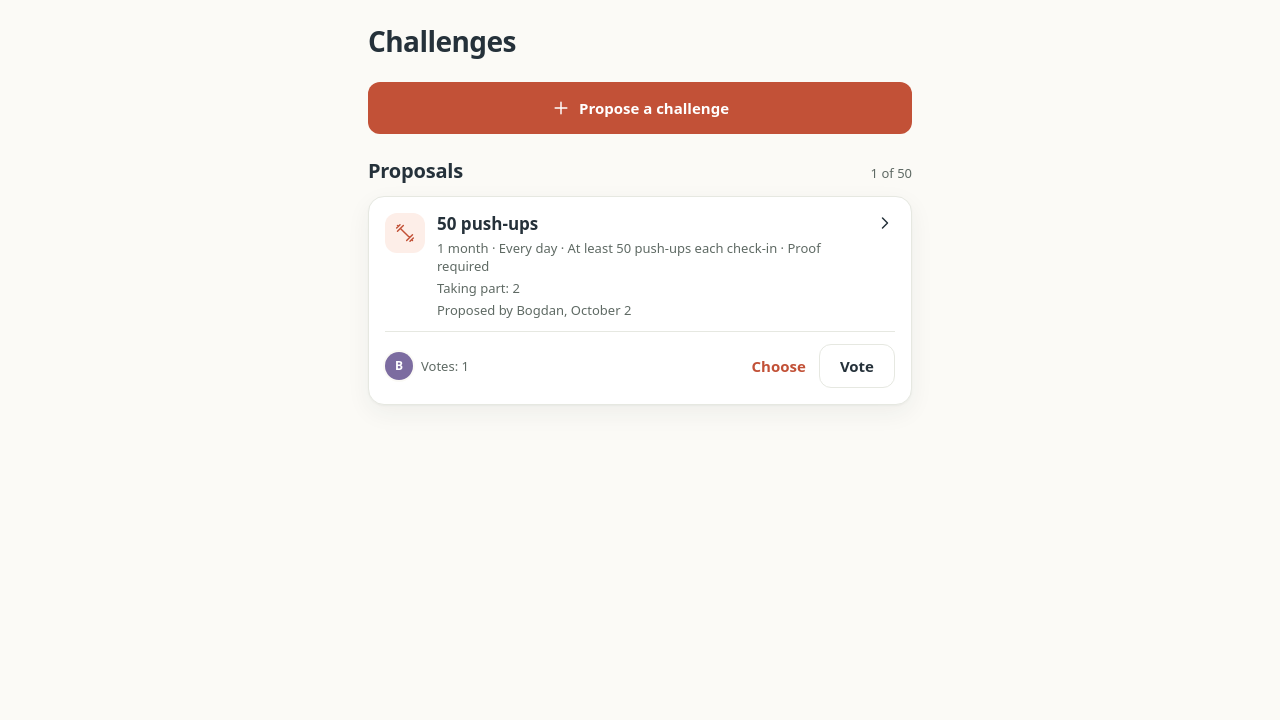
challenges list › lets an admin choose the month for a proposal
Click the button "Choose" at (779, 366), box [743,344,815,388]
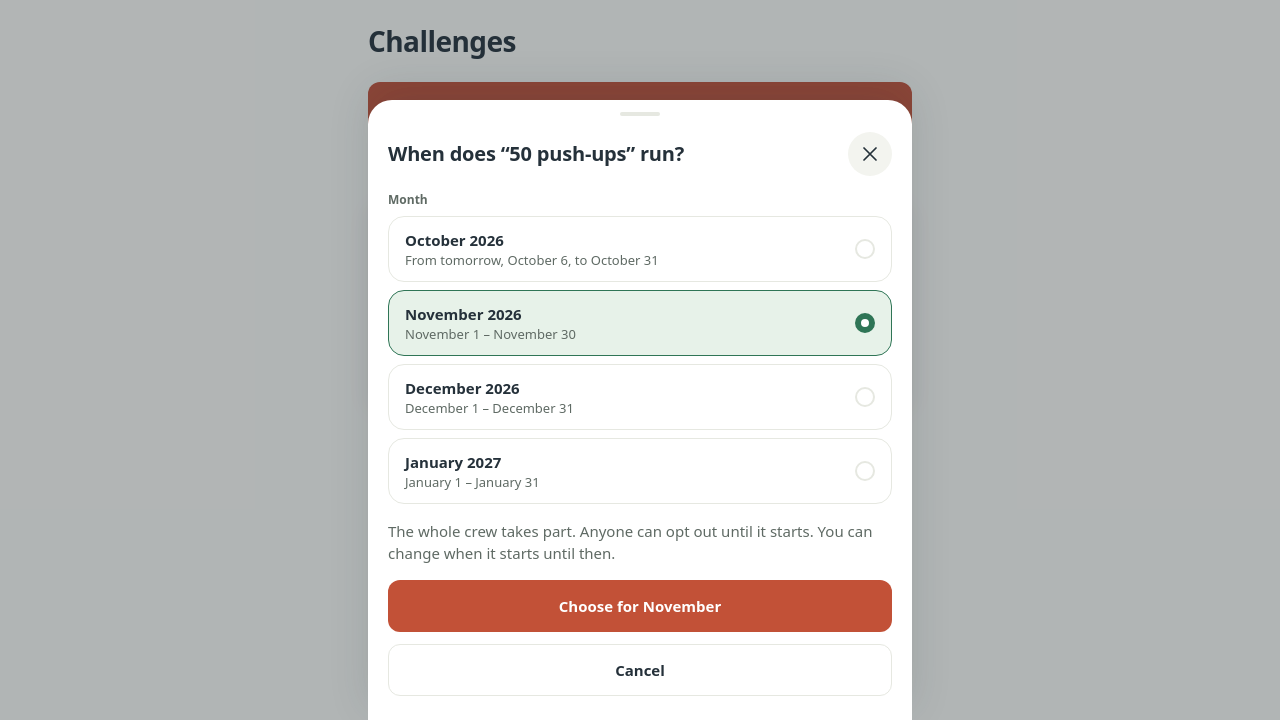
Now the heading "When does “50 push-ups” run?" is shown, box [388,140,684,167]
Now the radio button labelled "October 2026 From tomorrow, October 6, to October 31" is shown, box [388,216,892,282]
Now the radio button labelled "November 2026 November 1 – November 30" is checked, box [388,290,892,356]
Click the radio button labelled "December 2026 December 1 – December 31" at (462, 388), box [388,364,892,430]
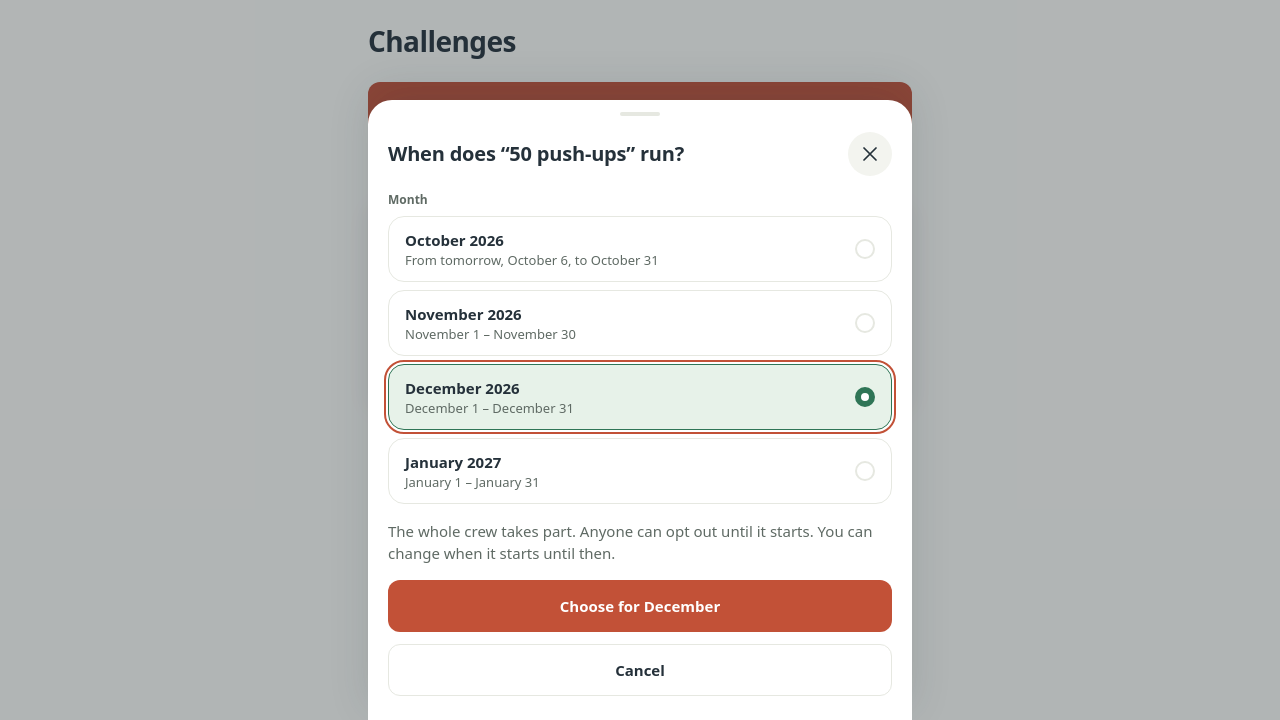
Click the button "Choose for December" at (640, 606), box [388,580,892,632]
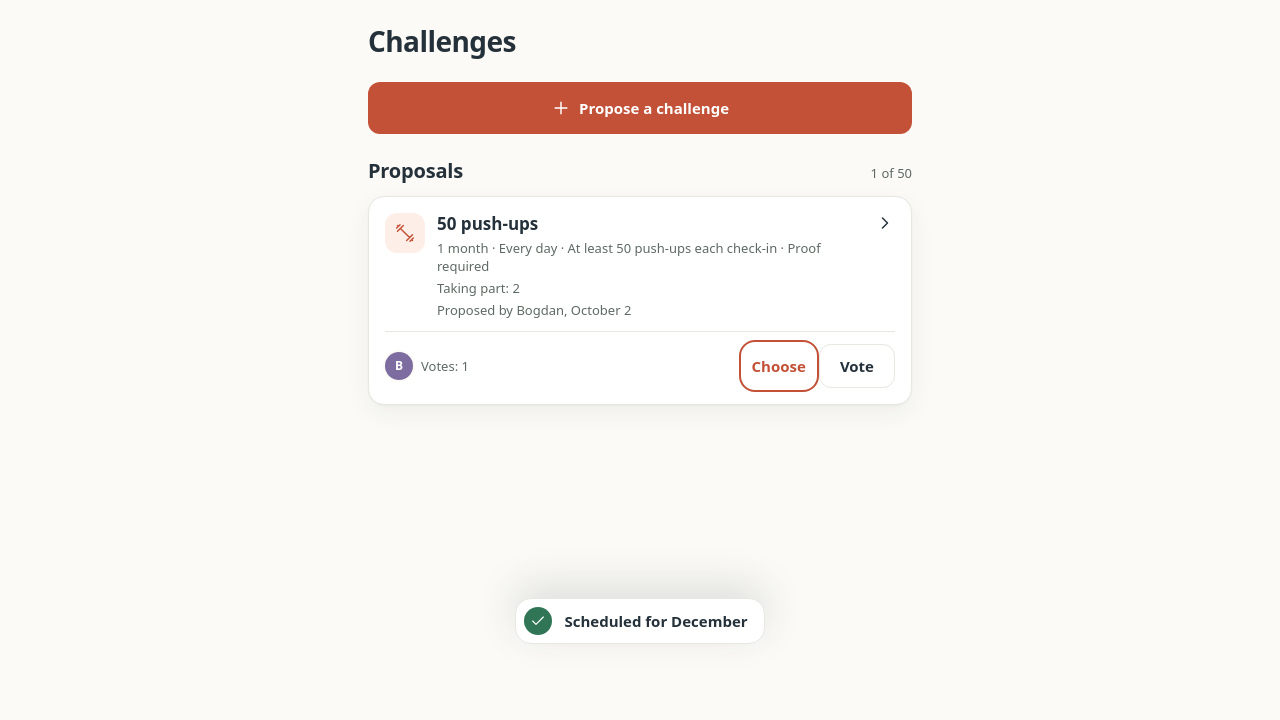
Now the text "Scheduled for December" is shown, box [515,598,764,644]
